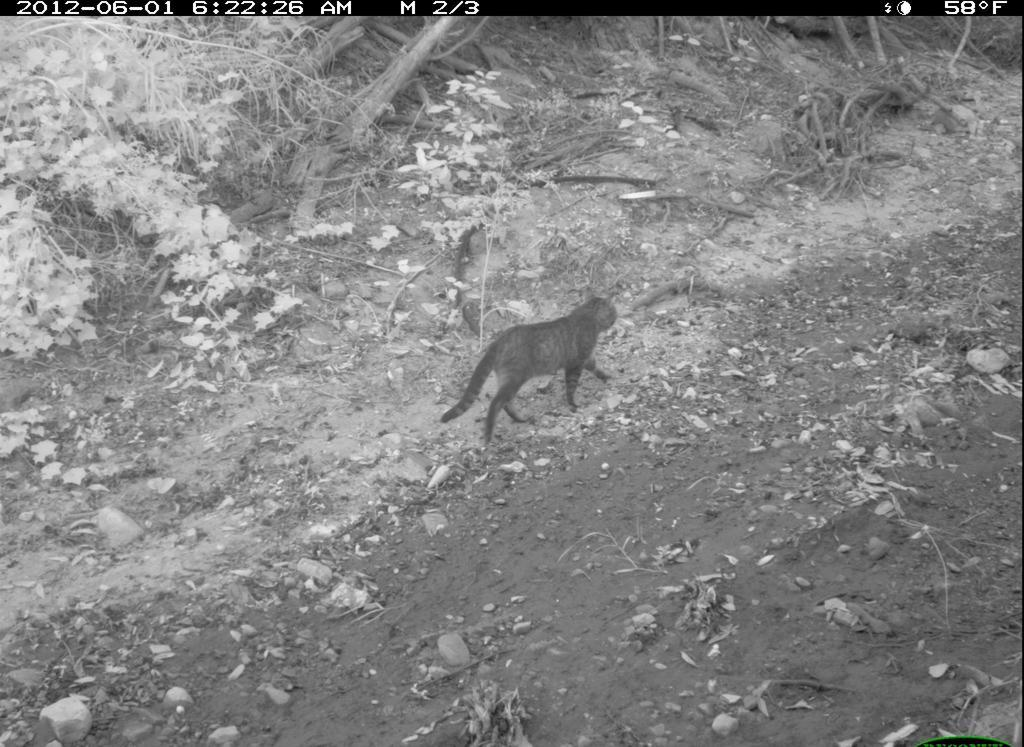cat: (437, 290, 634, 451)
